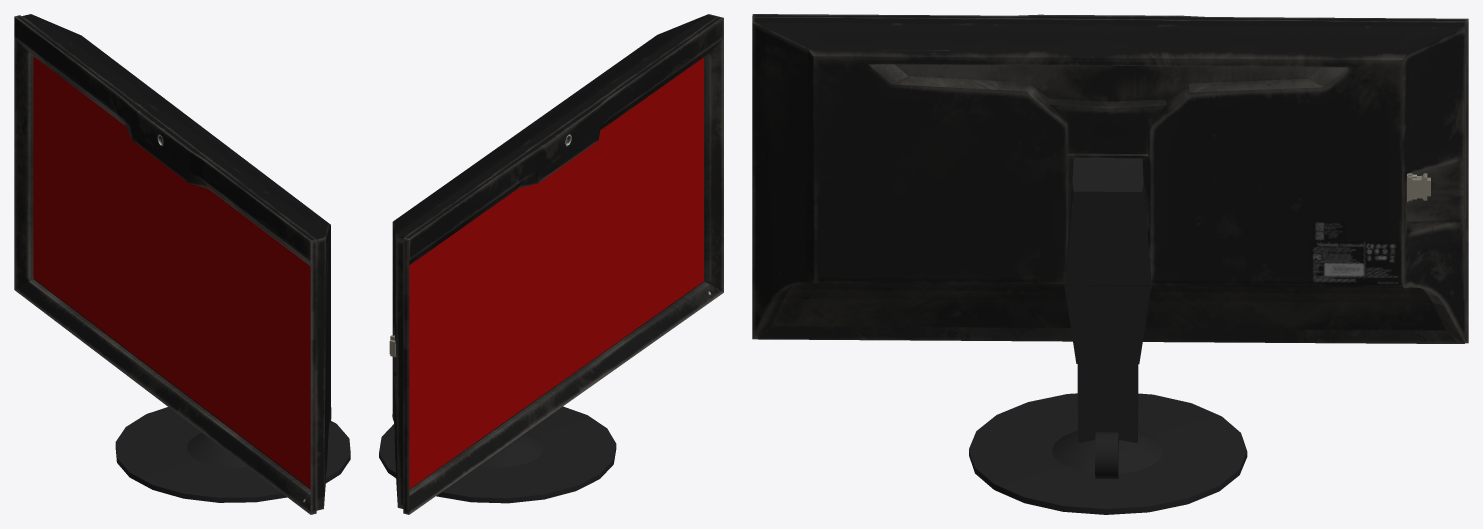
The model's file is Monitor_obj.fbx.
3 views of the same model, side by side, from view 1: azimuth 30°, elevation 25°; view 2: azimuth 150°, elevation 25°; view 3: azimuth 270°, elevation 25° (orthographic). The views are drawn at different scales.
Visible parts, largest first — view 1: polySurface947; view 2: polySurface947; view 3: polySurface947.
Part boxes in pixels (left/top/right/bottom): polySurface947: left=14, top=14, right=350, bottom=514; polySurface947: left=379, top=14, right=723, bottom=514; polySurface947: left=752, top=14, right=1468, bottom=514.
Size of the model in its own units: 0.2669 by 0.4234 by 0.687.
